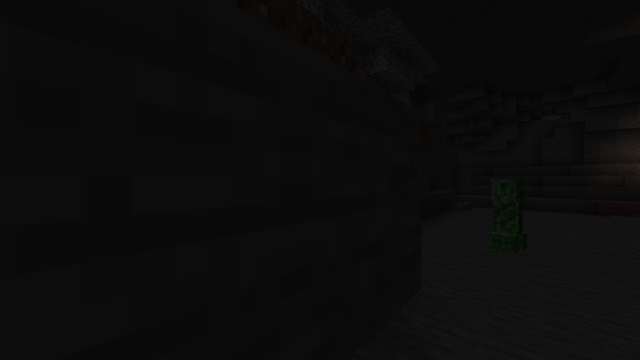creepers: (491, 176, 524, 253)
